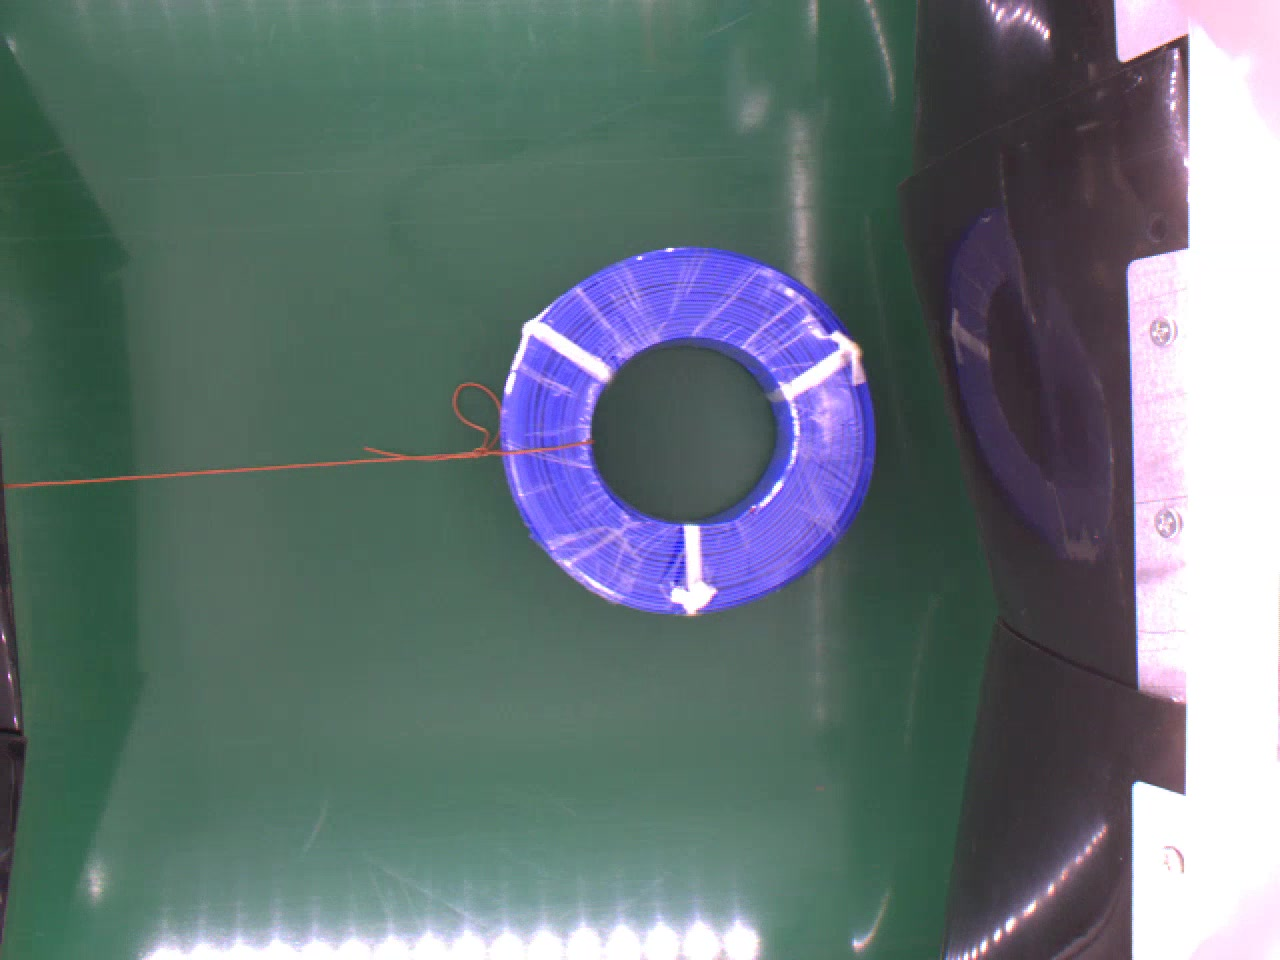blue: (496, 242, 877, 610)
